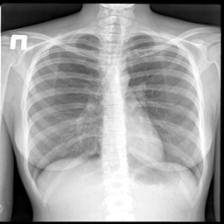tuberculosis: (20, 21, 208, 215)
